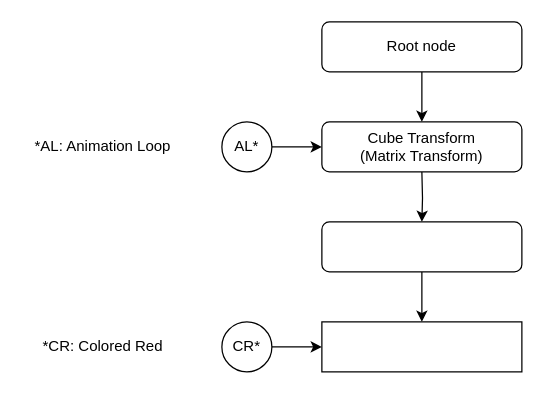
The diagram is 544 pixels wide and 394 high, and some of its shapes have lost their labels. The centre of each missing label's shape, as x and y in pixels:
Geode: (421,246)
Shape Drawable (Box): (421,346)
